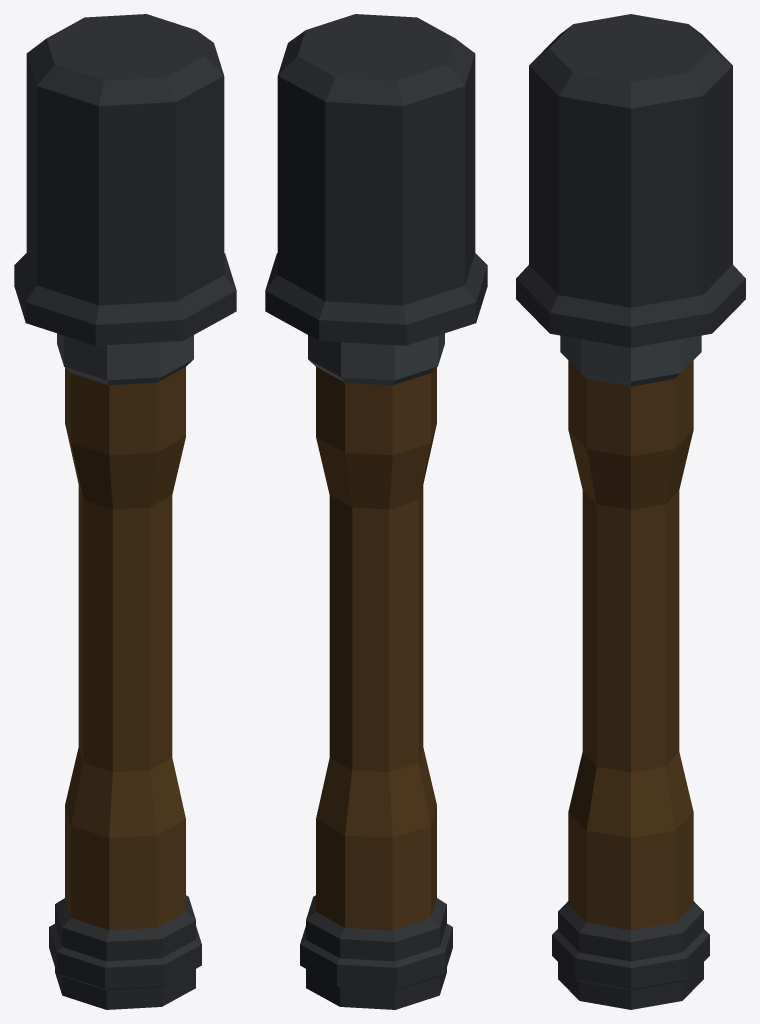
Rendered from Grenade.fbx.
The picture shows the model from 3 angles, left to right: view 1: azimuth 30°, elevation 25°; view 2: azimuth 150°, elevation 25°; view 3: azimuth 270°, elevation 25°; orthographic projection.
Parts seen in each view (by area): view 1: Grenade; view 2: Grenade; view 3: Grenade.
Part boxes in pixels (x1=…): Grenade: x1=14, y1=14, x2=236, y2=1009; Grenade: x1=265, y1=14, x2=487, y2=1009; Grenade: x1=516, y1=14, x2=745, y2=1009.
Bounding box in the file's own units: 0.0786 × 0.3514 × 0.0786.
